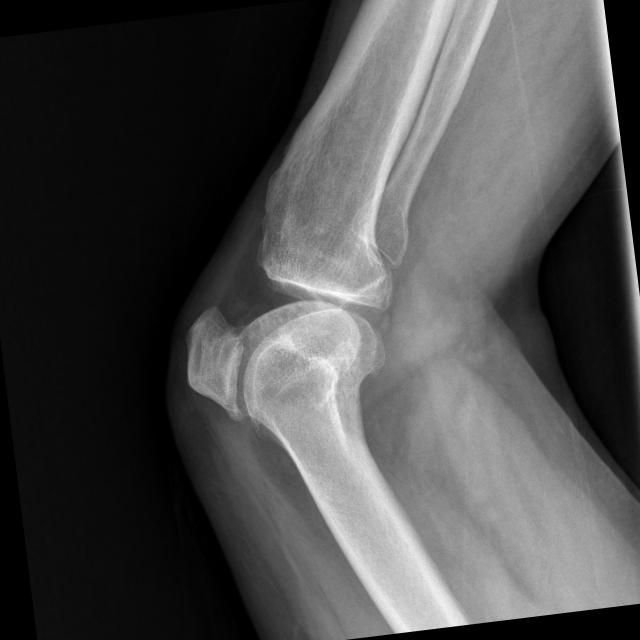Knee: (162, 182, 408, 438)
